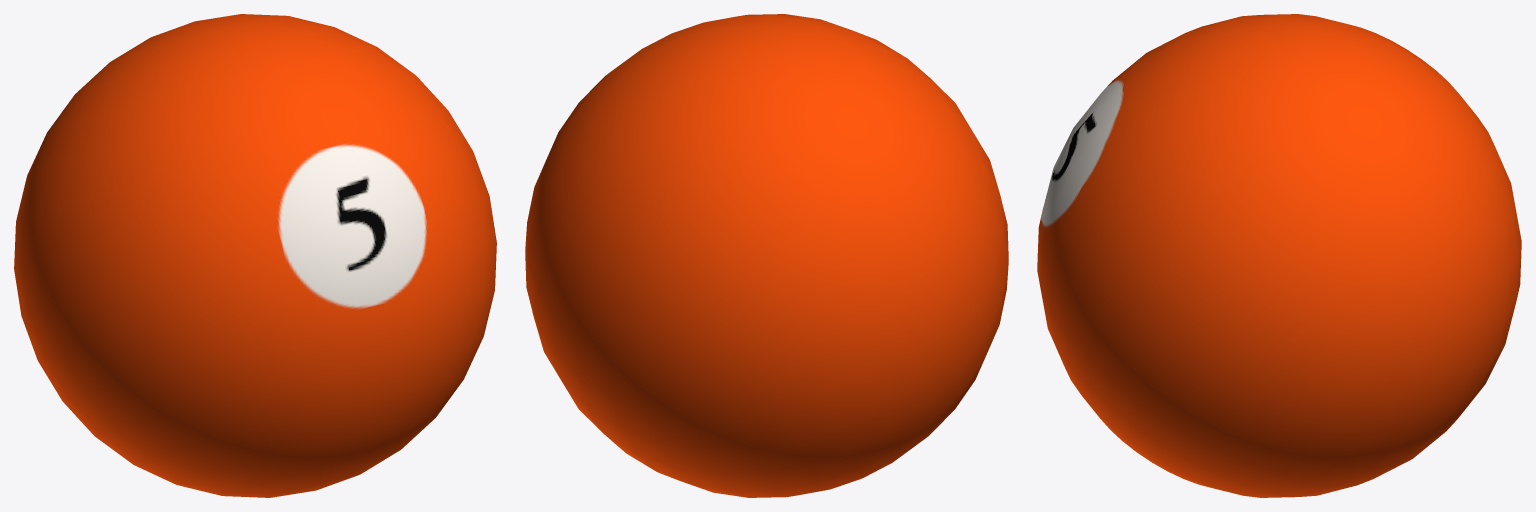
The model's file is ball5.obj.
3 views of the same model, side by side, from view 1: azimuth 30°, elevation 25°; view 2: azimuth 150°, elevation 25°; view 3: azimuth 270°, elevation 25° (orthographic).
Parts seen in each view (by area): view 1: Ball5_Mesh.003; view 2: Ball5_Mesh.003; view 3: Ball5_Mesh.003.
Part boxes in pixels (x1,y1,x2,y2): Ball5_Mesh.003: [14, 14, 496, 497]; Ball5_Mesh.003: [525, 14, 1008, 497]; Ball5_Mesh.003: [1037, 14, 1521, 497].
Size of the model in its own units: 0.9617 by 0.9597 by 0.9597.
1 material, 1 textured.
